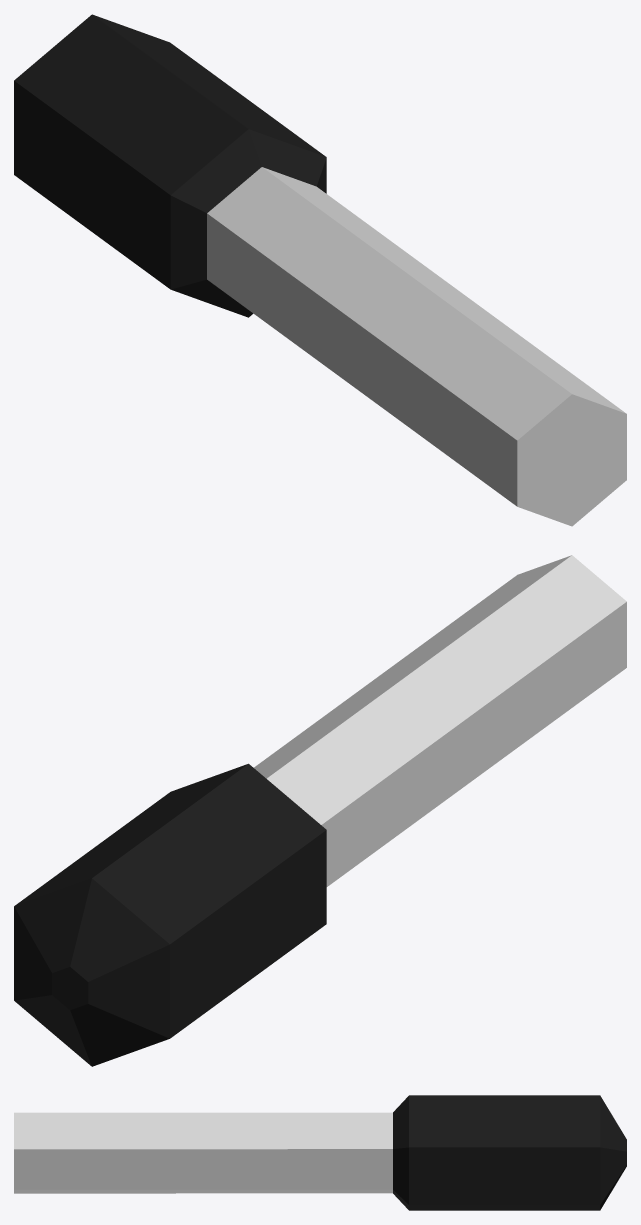
Rendered from PenMarkerV2Black.fbx.
3 views of the same model, one above another, from view 1: azimuth 30°, elevation 25°; view 2: azimuth 150°, elevation 25°; view 3: azimuth 270°, elevation 25° (orthographic). The views are drawn at different scales.
Visible parts, largest first — view 1: PenMarkerV2Black; view 2: PenMarkerV2Black; view 3: PenMarkerV2Black.
Part boxes in pixels (x1=…): PenMarkerV2Black: x1=14, y1=14, x2=626, y2=526; PenMarkerV2Black: x1=14, y1=555, x2=626, y2=1066; PenMarkerV2Black: x1=14, y1=1095, x2=626, y2=1210.
Bounding box in the file's own units: 1.93 × 2.23 × 10.74.
